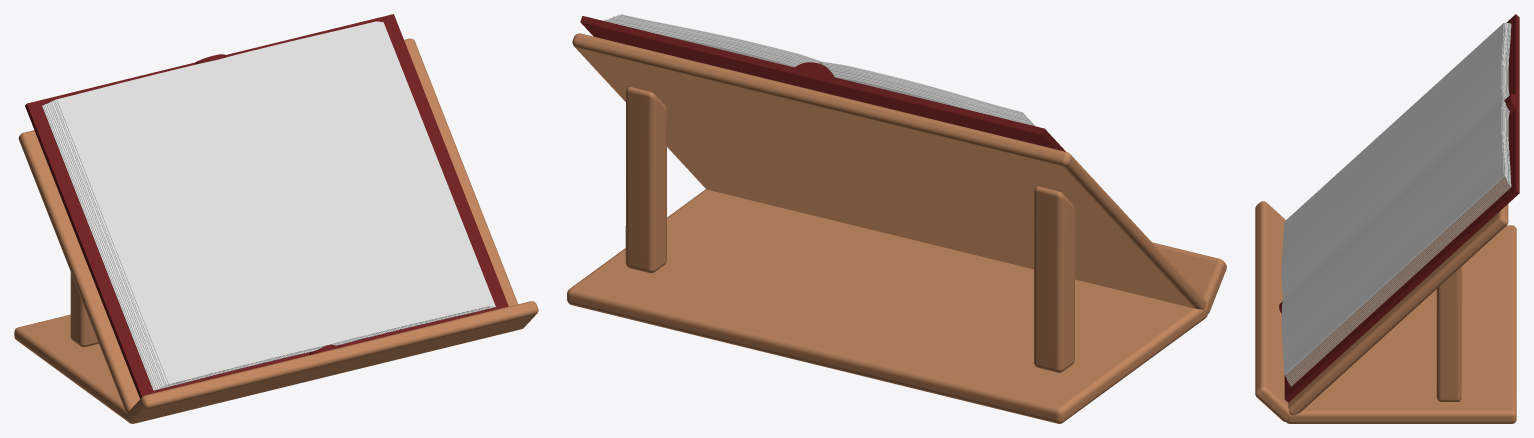
The model's file is SM_Book_Stand_V7.fbx.
3 views of the same model, side by side, from view 1: azimuth 30°, elevation 25°; view 2: azimuth 150°, elevation 25°; view 3: azimuth 270°, elevation 25° (orthographic). The views are drawn at different scales.
Parts seen in each view (by area): view 1: SM_Book_n_Stand; view 2: SM_Book_n_Stand; view 3: SM_Book_n_Stand.
Boxes of the visible parts, <box> form: SM_Book_n_Stand: <box>14,14,538,423</box>; SM_Book_n_Stand: <box>567,14,1226,423</box>; SM_Book_n_Stand: <box>1255,14,1519,423</box>.
Bounding box in the file's own units: 33.83 × 19.54 × 20.
